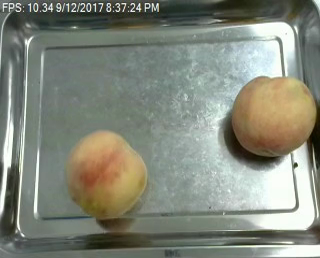Peach: (65, 128, 148, 221), (231, 75, 316, 157)
